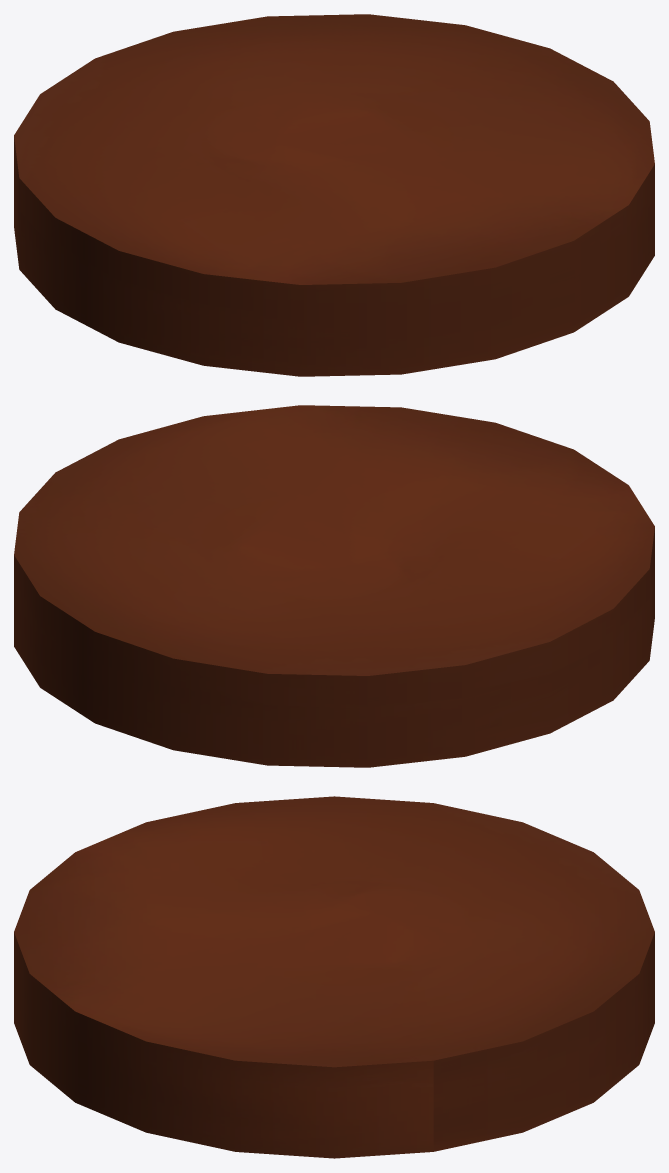
File: Meat3.obj
The picture shows the model from 3 angles, top to bottom: view 1: azimuth 30°, elevation 25°; view 2: azimuth 150°, elevation 25°; view 3: azimuth 270°, elevation 25°; orthographic projection.
Visible parts, largest first — view 1: pasted__polySurface25 pasted__polySurface18 group13; view 2: pasted__polySurface25 pasted__polySurface18 group13; view 3: pasted__polySurface25 pasted__polySurface18 group13.
Part boxes in pixels (box(x1,y1,x2,y2)): pasted__polySurface25 pasted__polySurface18 group13: box(14, 14, 654, 376); pasted__polySurface25 pasted__polySurface18 group13: box(14, 405, 654, 767); pasted__polySurface25 pasted__polySurface18 group13: box(14, 796, 654, 1158).
Size of the model in its own units: 2 by 0.3141 by 2.
Materials: 1 (1 with a texture image).
